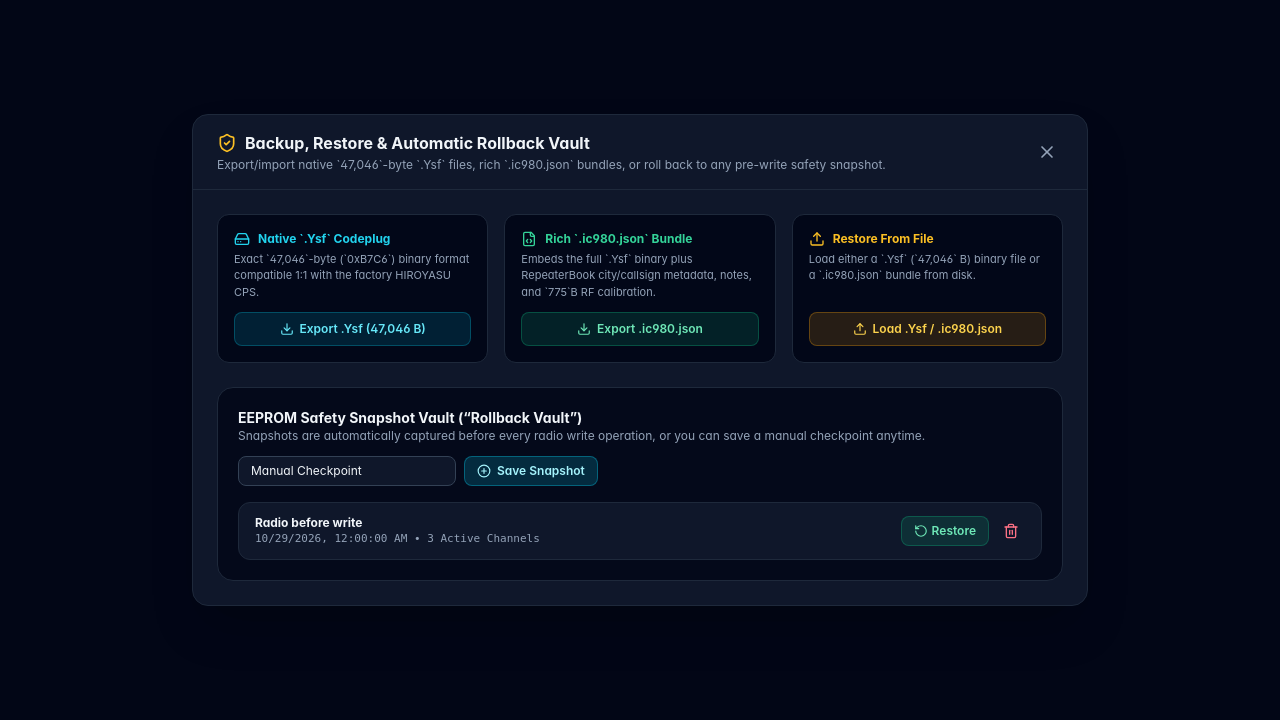
Test: BackupVaultModal › shows an error when deleting a snapshot fails
The width and height of the screenshot is (1280, 720).
Expected: the text "Radio before write" is shown, [255,515,362,530]
Click the button named "Delete snapshot Radio before write" at (1011, 531), box [997,517,1025,545]
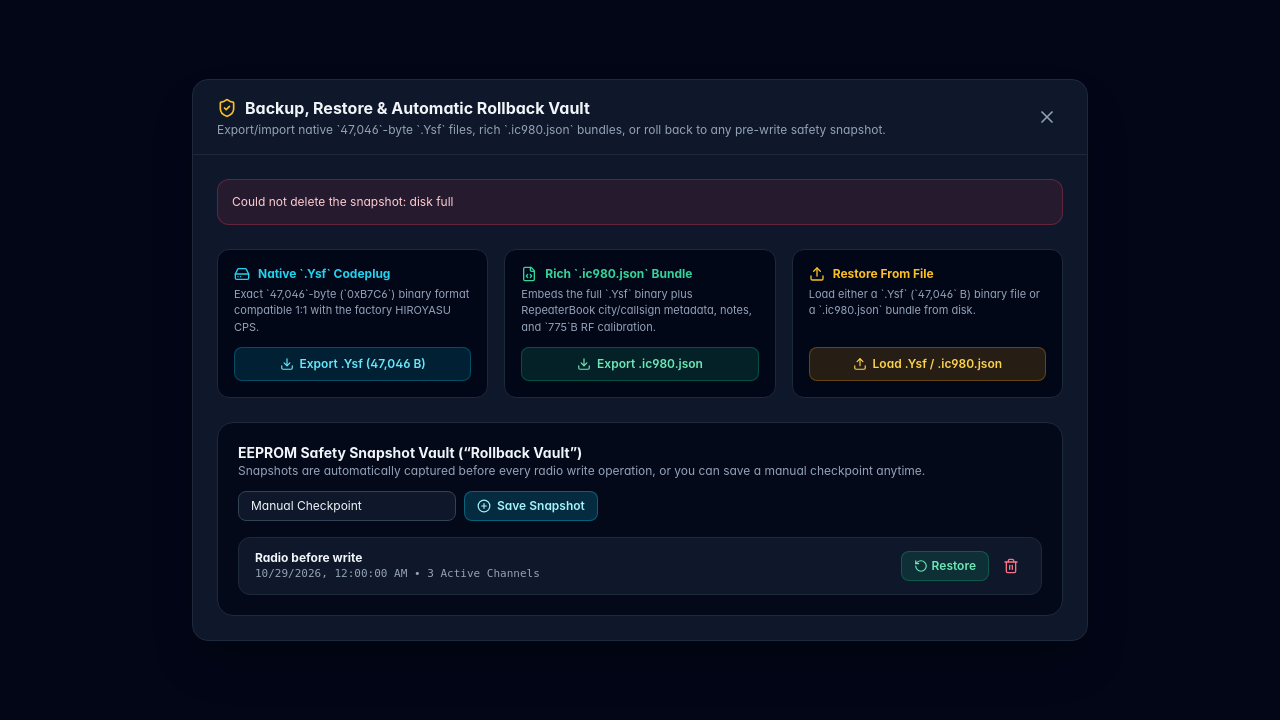
Now the message reads "Could not delete the snapshot: disk full", box [232,194,454,209]
